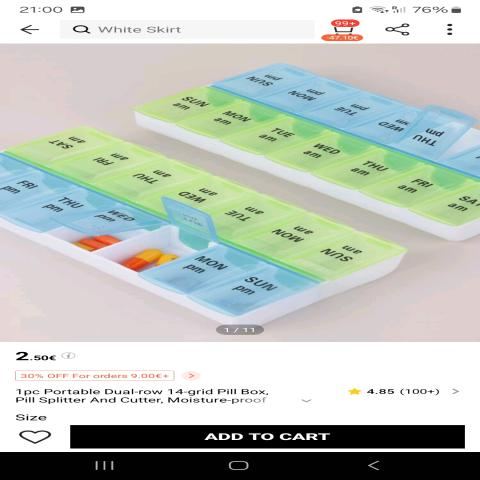PillBox: (13, 127, 398, 324)
